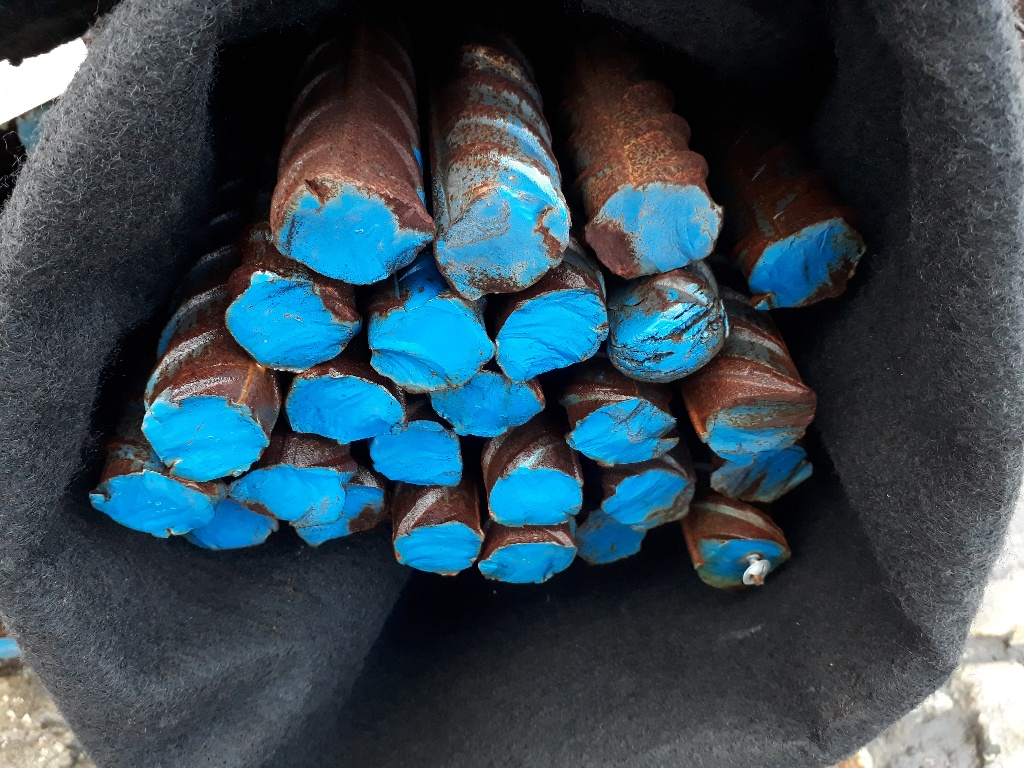dipstick: (272, 178, 436, 288), (439, 185, 572, 299), (223, 271, 363, 371), (585, 181, 722, 278), (372, 297, 495, 394), (609, 282, 727, 383), (140, 396, 272, 481), (495, 287, 610, 384), (750, 215, 866, 310), (86, 468, 213, 539), (285, 372, 403, 442), (562, 399, 681, 467), (426, 372, 549, 436), (707, 391, 816, 462), (226, 462, 348, 523), (366, 419, 465, 491), (485, 465, 586, 528), (293, 480, 387, 547), (597, 468, 695, 531), (707, 447, 814, 502), (689, 537, 791, 592), (479, 539, 580, 591), (393, 519, 480, 578), (184, 499, 278, 551), (576, 509, 648, 564)
